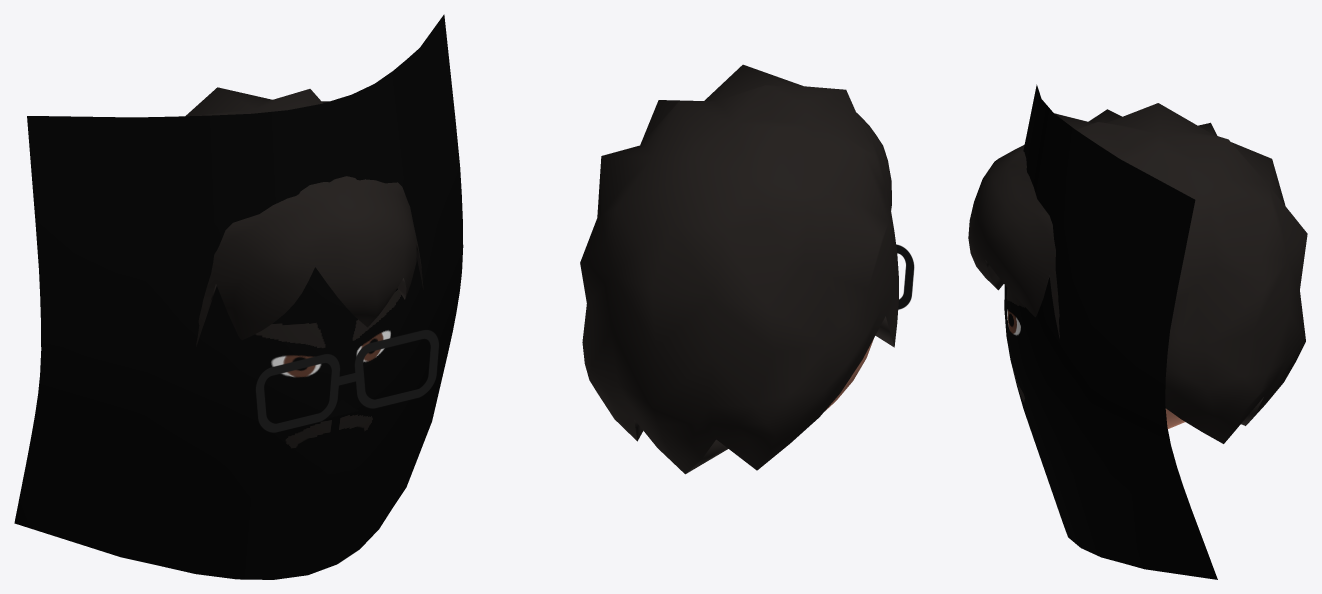
File: 2026-01-08_15-05-53-mii-data.glb
The picture shows the model from 3 angles, left to right: view 1: azimuth 30°, elevation 25°; view 2: azimuth 150°, elevation 25°; view 3: azimuth 270°, elevation 25°; orthographic projection. The views are drawn at different scales.
Visible parts, largest first — view 1: XluMask, OpaHair, XluGlass; view 2: OpaHair, XluGlass; view 3: XluMask, OpaHair.
Part boxes in pixels (x1=…): XluMask: x1=14, y1=14, x2=463, y2=579; OpaHair: x1=185, y1=87, x2=423, y2=346; XluGlass: x1=255, y1=330, x2=438, y2=432; OpaHair: x1=580, y1=64, x2=898, y2=474; XluGlass: x1=896, y1=244, x2=914, y2=309; XluMask: x1=1004, y1=84, x2=1217, y2=579; OpaHair: x1=968, y1=103, x2=1307, y2=443.
Bounding box in the file's own units: 91.85 × 100 × 70.09.
Materials: 7 (3 with a texture image).
